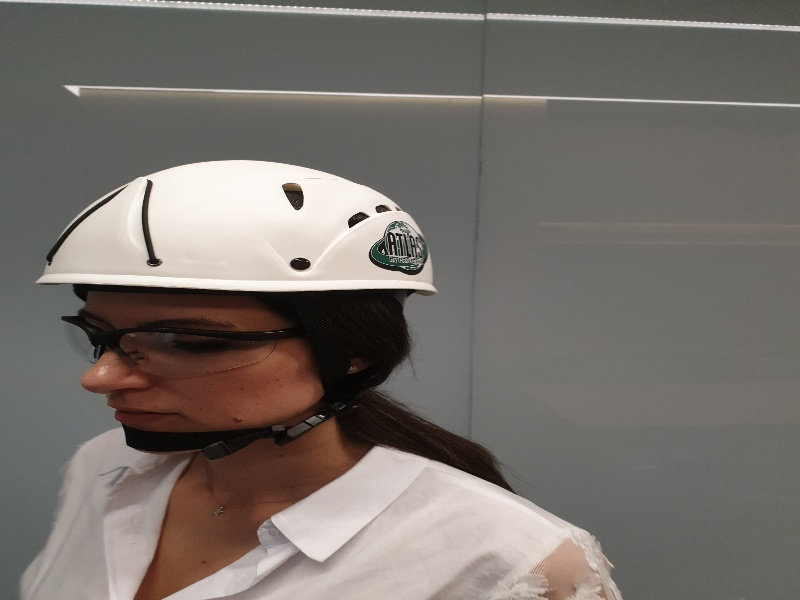Baret: (33, 159, 435, 301)
Gozluk: (60, 315, 348, 378)
